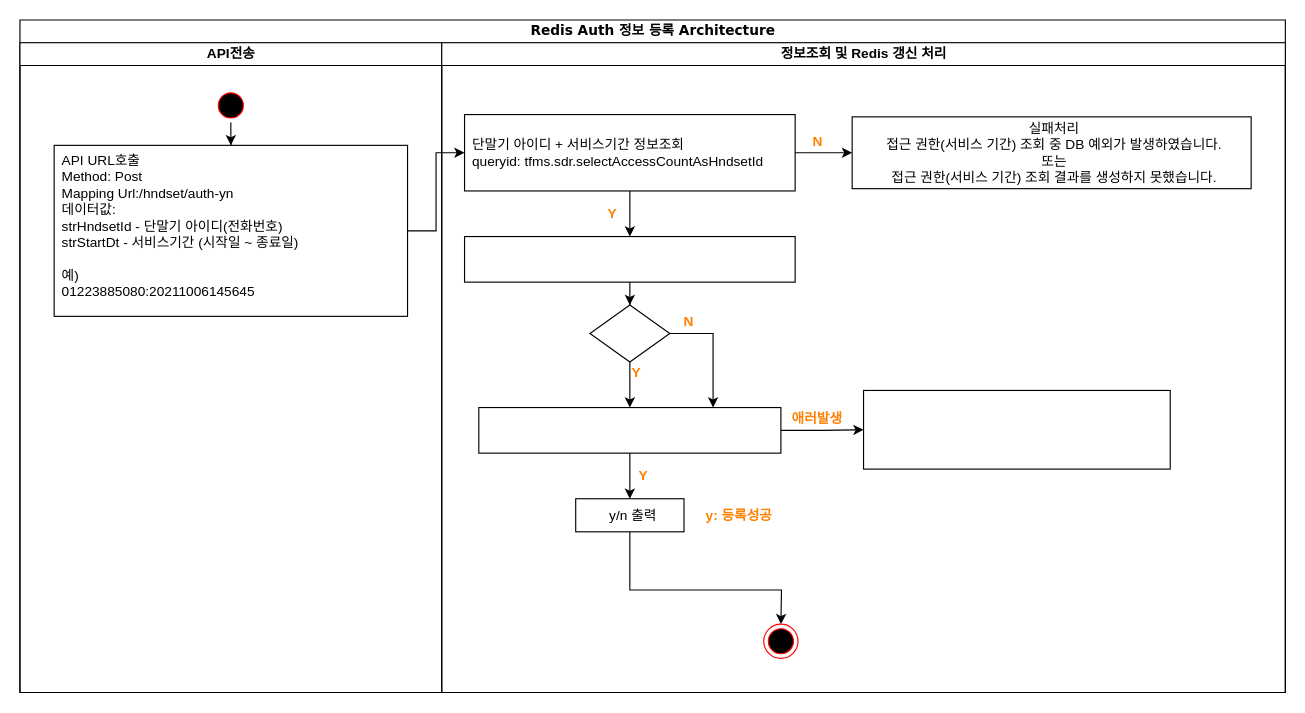
The diagram is 1305 pixels wide and 713 high, and some of its shapes have lost their labels. The shapes that lost their labels are listed below. From the top down, each one's centre as x and y in pixels, then its label:
pixel 629 258: ccom_id - 회사ID, cnt - 일치갯수 redis cache생성 - strHndsetId: ccom_id
pixel 629 333: cnt = 0
pixel 629 429: redis cache갱신 - strHndsetId: ccom_id :Y/N
pixel 1016 429: logTitle, errorCode, logMsg + getQueryId() 또는 응답 전송 중 I/O 예외가 발생하였습니다.
